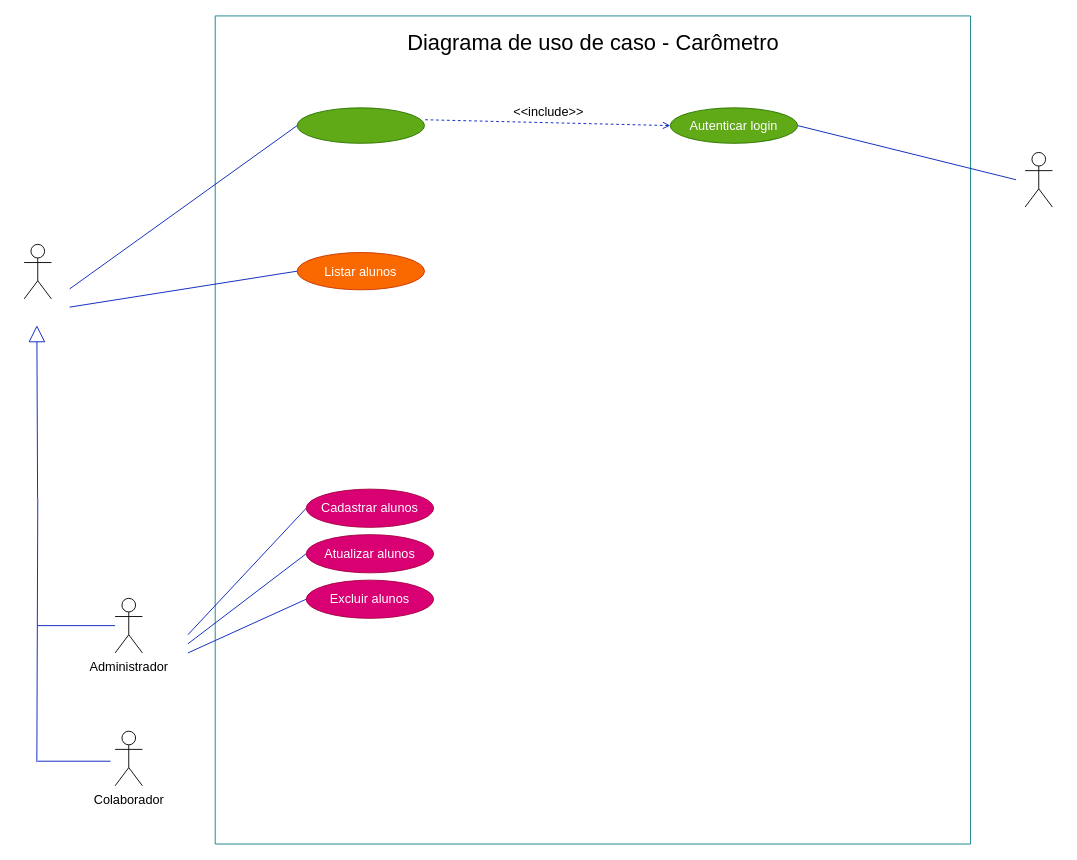
Image size: 1077x860. Some labels were removed from this diagram. The shapes that lost their labels are listed below. From the top down, each one's centre as x and y in pixels, then its label:
At (360,125): "Efetuar Login".
At (1038,179): "Sistema".
At (37,271): "Usuário".
